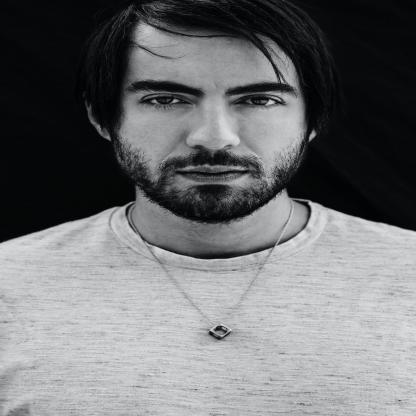Eye: (230, 93, 287, 111), (138, 93, 196, 110)
Mouth: (167, 159, 255, 184)
Nose: (186, 107, 239, 153)
